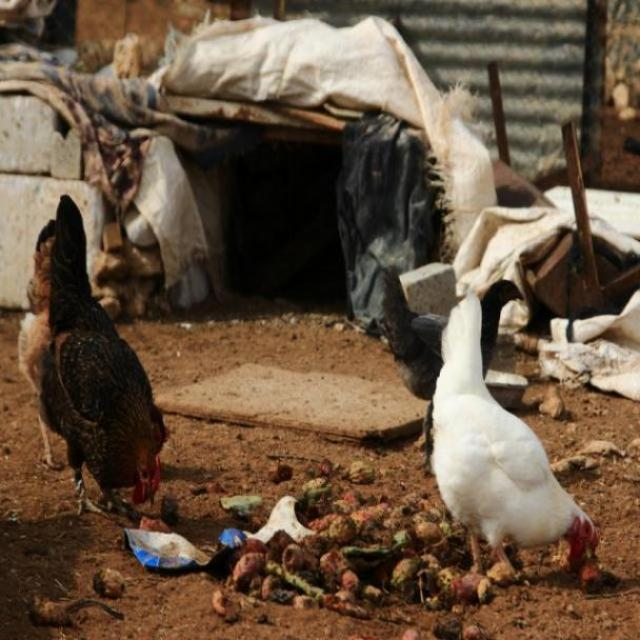Chicken: (429, 287, 605, 593), (16, 202, 160, 536), (376, 267, 527, 488), (12, 217, 61, 474)
